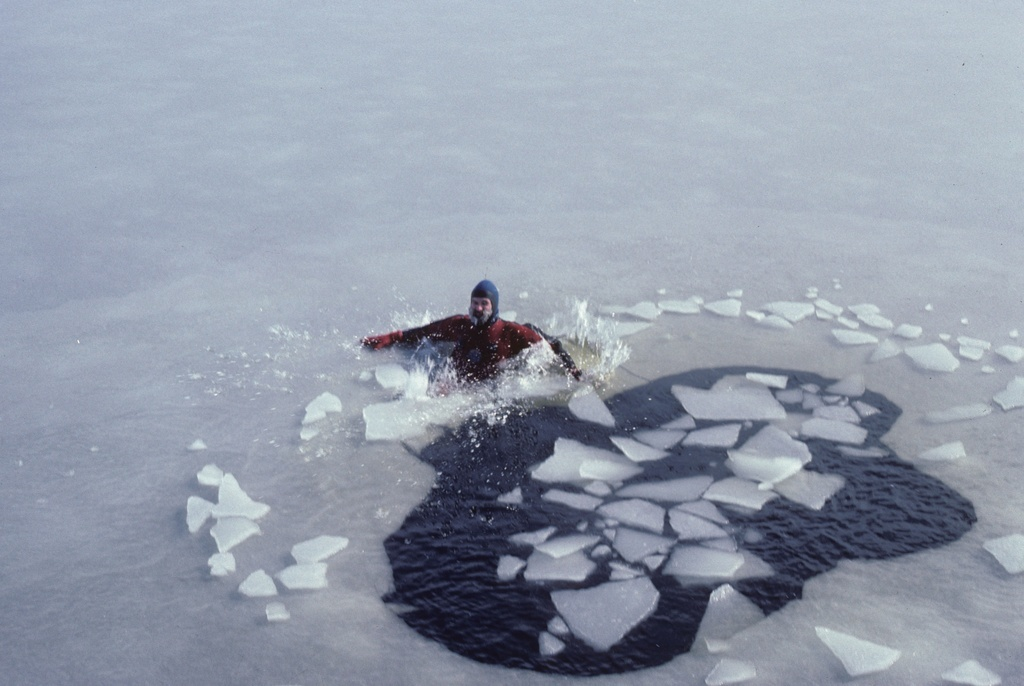Person: (357, 278, 581, 399)
